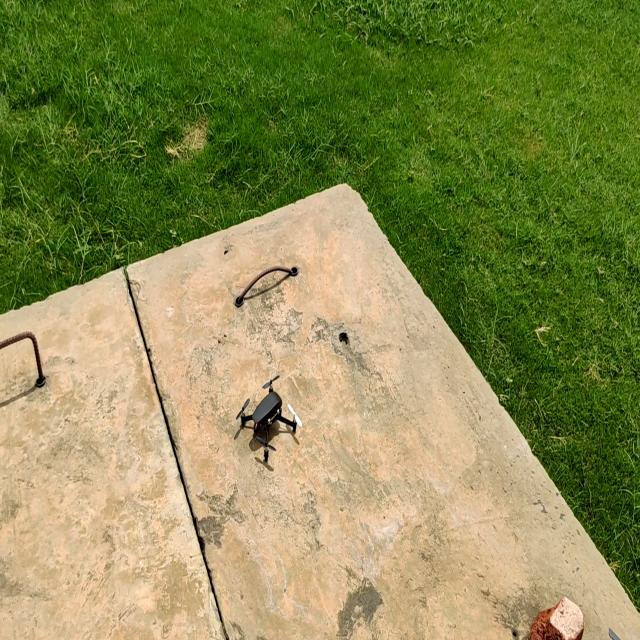drone: (231, 367, 301, 478)
